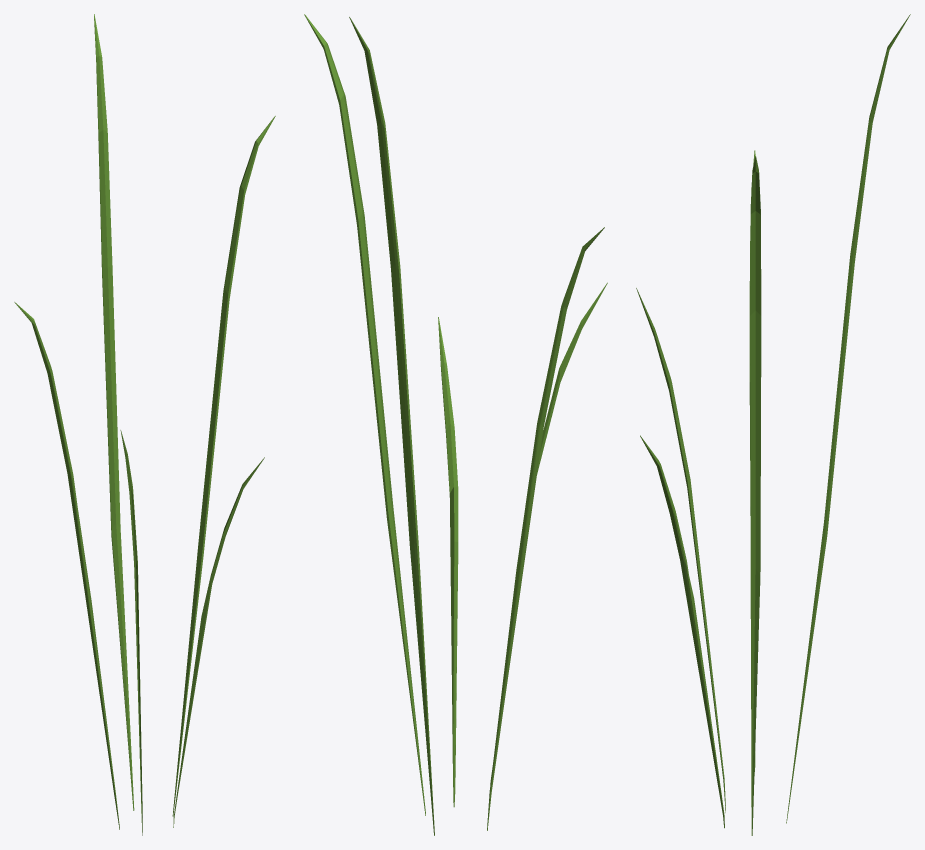
Rendered from Grass6.fbx.
3 renders of one model, left to right at view 1: azimuth 30°, elevation 25°; view 2: azimuth 150°, elevation 25°; view 3: azimuth 270°, elevation 25°, orthographic. The views are drawn at different scales.
Visible parts, largest first — view 1: Grass6; view 2: Grass6; view 3: Grass6.
Part boxes in pixels (x1,y1,x2,y2): Grass6: (14, 14, 275, 835); Grass6: (304, 14, 607, 835); Grass6: (636, 14, 910, 835).
Bounding box in the file's own units: 105 × 289 × 87.74.
